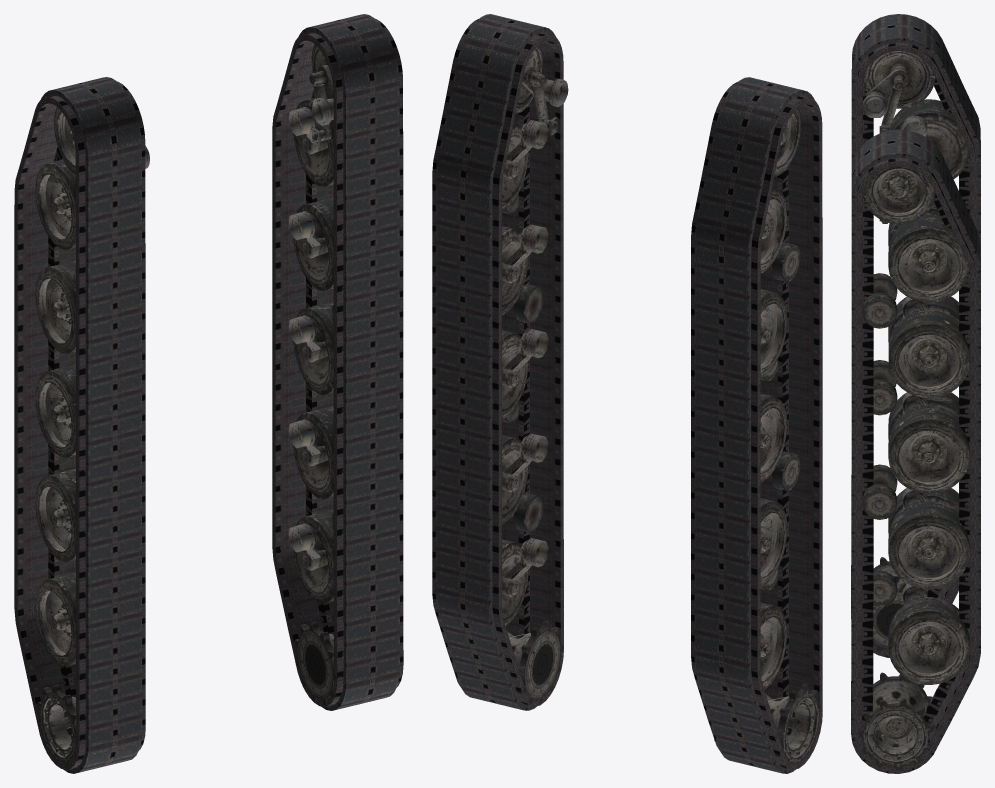
The model's file is Chassis.glb.
The picture shows the model from 3 angles, left to right: view 1: azimuth 30°, elevation 25°; view 2: azimuth 150°, elevation 25°; view 3: azimuth 270°, elevation 25°; orthographic projection. The views are drawn at different scales.
Visible parts, largest first — view 1: set_1_group_0, set_0_group_0, set_3_group_0, set_2_group_0; view 2: set_1_group_0, set_0_group_0, set_3_group_0, set_2_group_0; view 3: set_3_group_0, set_0_group_0, set_2_group_0, set_1_group_0.
Boxes of the visible parts, bbox=[...] form: set_1_group_0: bbox=[14, 77, 145, 773]; set_0_group_0: bbox=[272, 14, 403, 710]; set_3_group_0: bbox=[288, 44, 402, 707]; set_2_group_0: bbox=[35, 107, 149, 769]; set_1_group_0: bbox=[691, 77, 822, 773]; set_0_group_0: bbox=[432, 14, 563, 710]; set_3_group_0: bbox=[455, 44, 568, 706]; set_2_group_0: bbox=[714, 107, 819, 769]; set_3_group_0: bbox=[855, 166, 969, 772]; set_0_group_0: bbox=[851, 129, 980, 773]; set_2_group_0: bbox=[862, 51, 969, 652]; set_1_group_0: bbox=[851, 14, 980, 657].
Size of the model in its own units: 3.1 by 6.16 by 1.17.
Materials: 4 (4 with a texture image).
